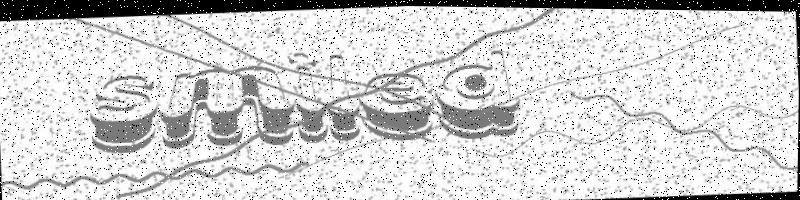d: (433, 45, 524, 139)
e: (356, 68, 438, 143)
i: (284, 47, 330, 145)
l: (324, 51, 363, 141)
m: (156, 60, 297, 152)
s: (86, 72, 161, 156)
